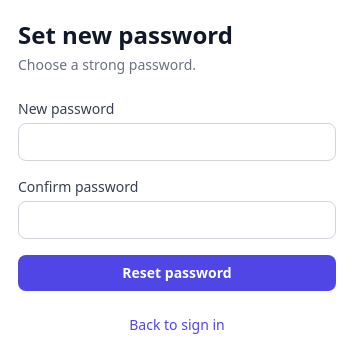
Test: ResetPasswordPage › shows mismatch error when passwords differ
In the password field labelled "New password": (177, 142) [18,123,336,161], type "StrongPass1"
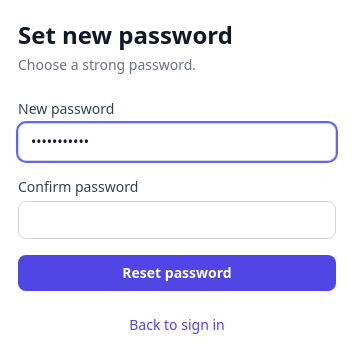
In the password field labelled "Confirm password": (177, 220) [18,201,336,239], type "Different1"
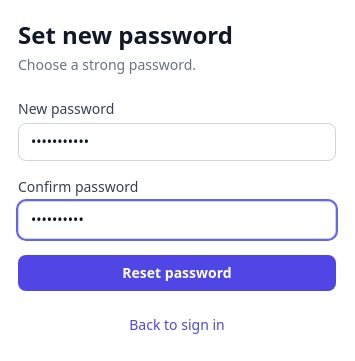
Click the button "Reset password": (177, 273) [18,255,336,291]
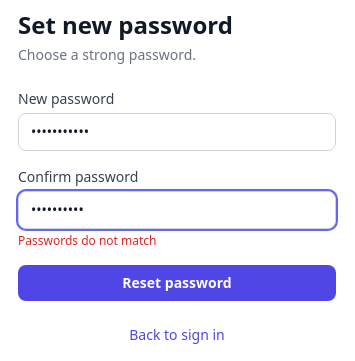
Expected: the text "Passwords do not match" is shown, [18,232,156,249]
